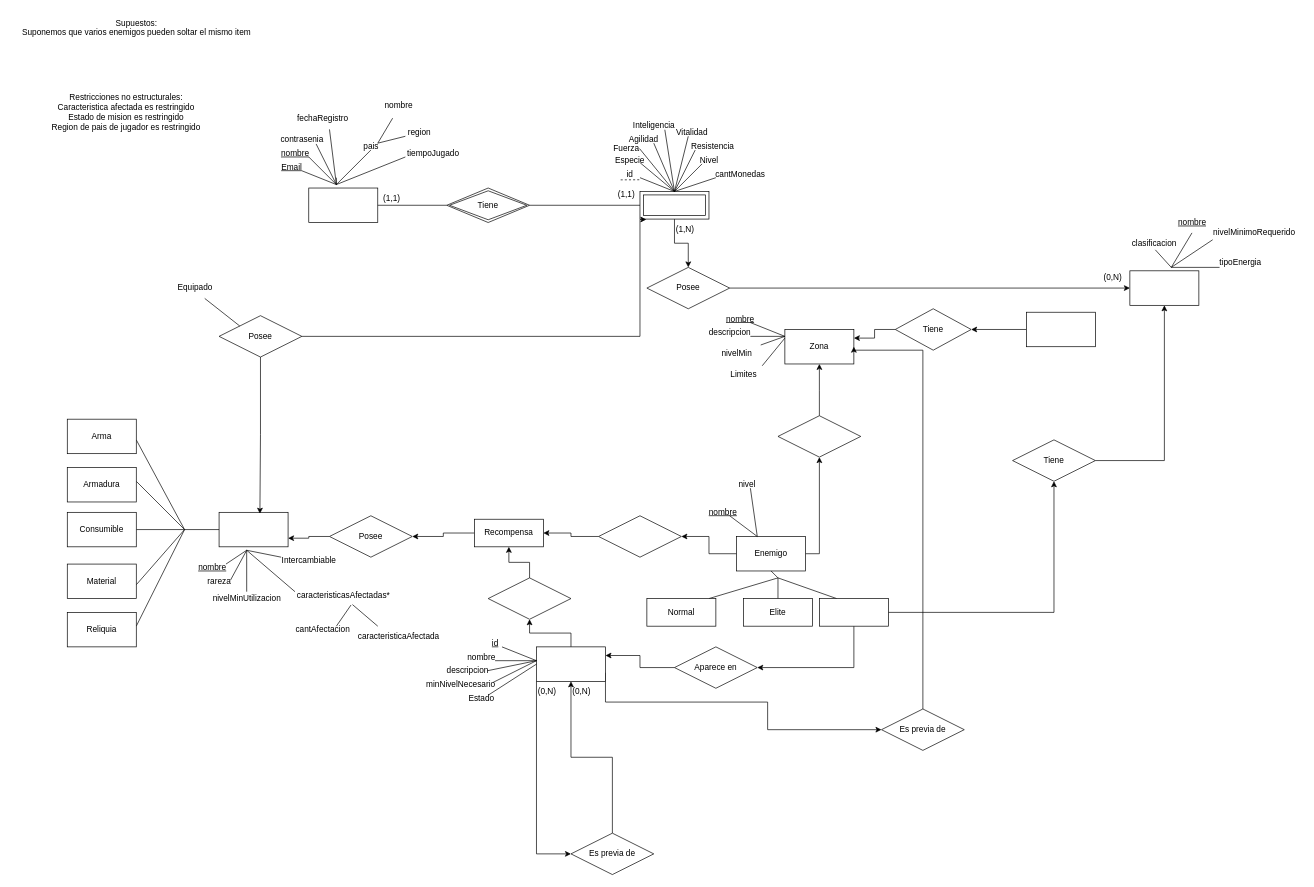
Image size: 1314x887. Some labels were removed from this diagram. Each missing label, with the centre of its shape:
Da: (529,598)
Deja: (639,536)
Habilidades: (1164,287)
Habita: (819,436)
Item: (253,529)
Jefe: (853,612)
Jugador: (343,205)
Mapa: (1060,329)
Misiones: (570,663)
Personaje: (674,205)
